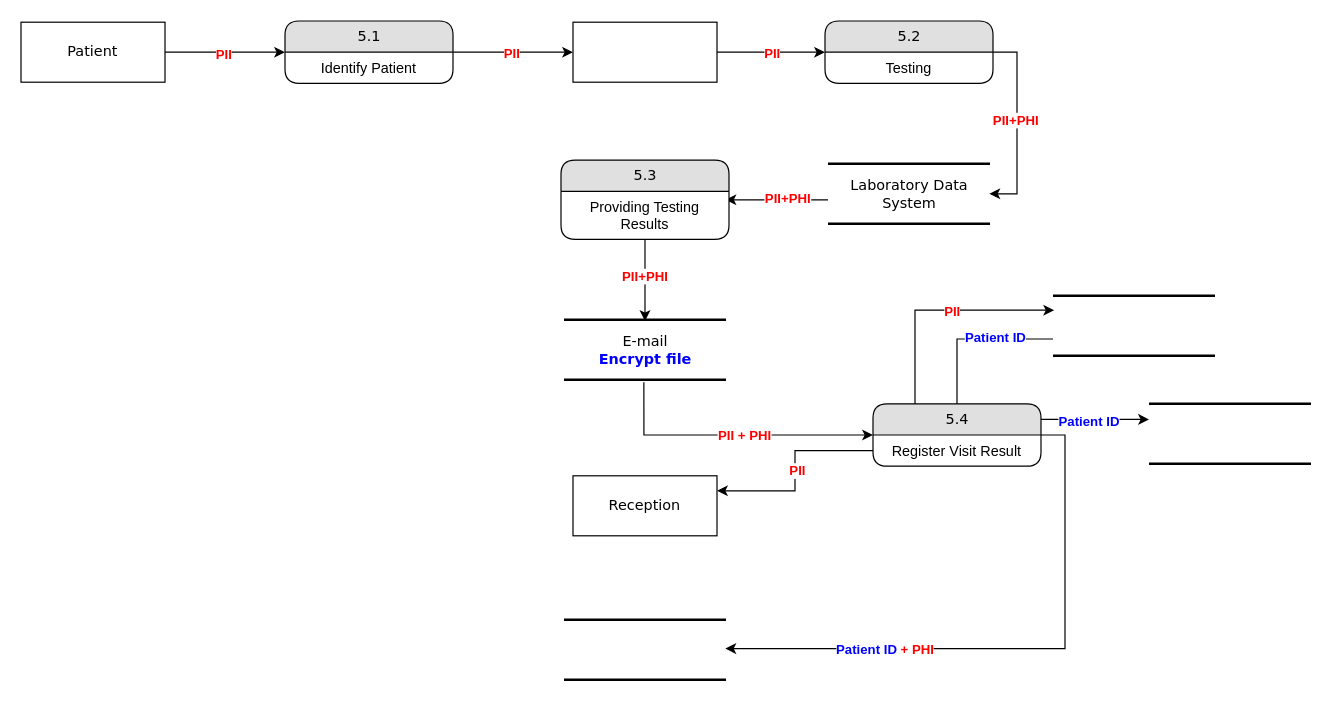
Image size: 1333x702. Some labels were removed from this diagram. Each missing label, with the box of its shape:
Laboratory: (572, 21, 717, 82)
Patient data file: (562, 618, 727, 680)
Patients Excel file: (1051, 294, 1216, 356)
RegistryByDate Excel File: (1147, 402, 1312, 464)
